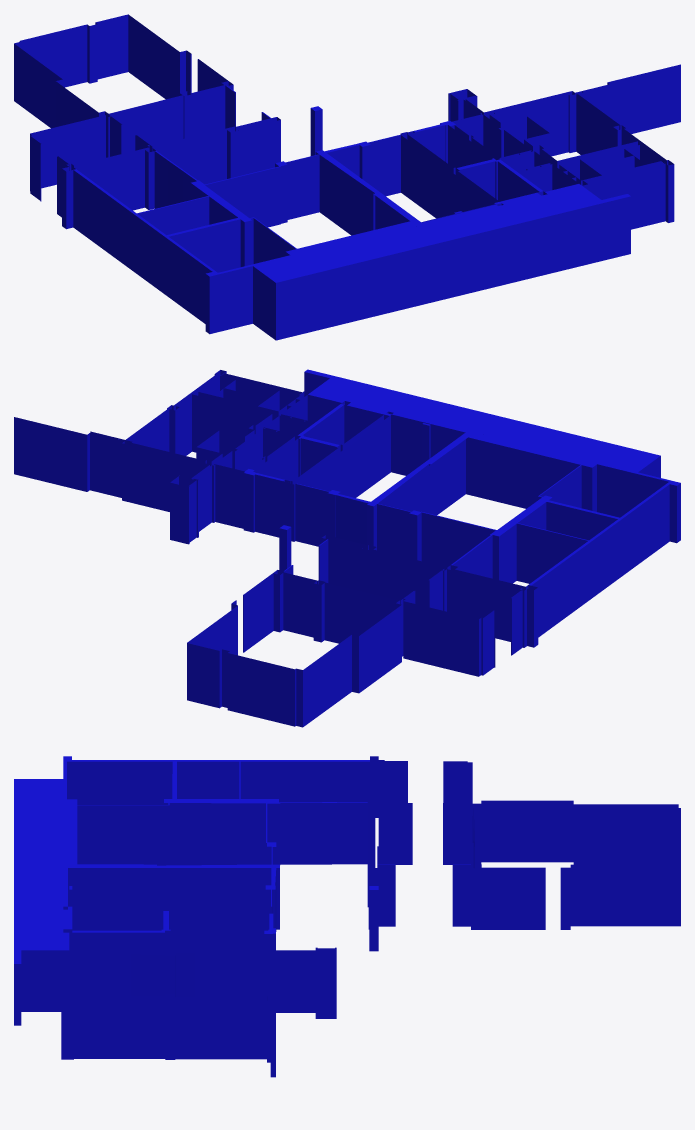
3 renders of one model, top to bottom at view 1: azimuth 30°, elevation 25°; view 2: azimuth 150°, elevation 25°; view 3: azimuth 270°, elevation 25°, orthographic. The views are drawn at different scales.
Visible parts, largest first — view 1: Plane; view 2: Plane; view 3: Plane.
Boxes of the visible parts, x1,y1,x2,y2 form: Plane: (14, 14, 680, 340); Plane: (14, 369, 680, 727); Plane: (14, 756, 680, 1077).
Size of the model in its own units: 41.48 by 4 by 39.27.
